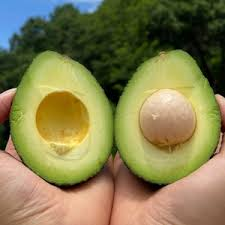avocado: (115, 50, 221, 184), (9, 51, 112, 186)
